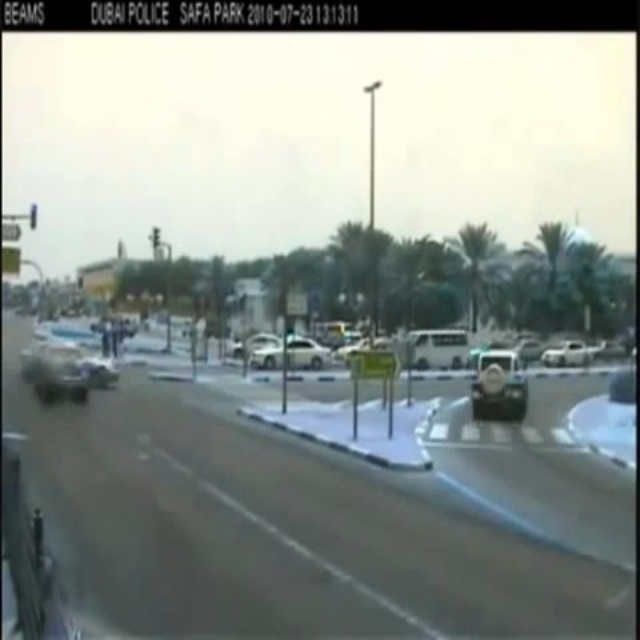acc: (19, 331, 119, 409)
